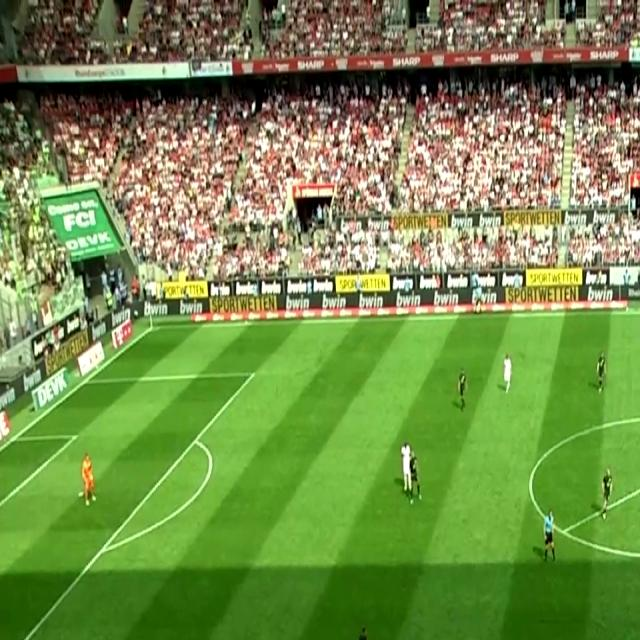goalkeeper: (77, 443, 101, 514)
referee: (537, 496, 560, 576)
soccer-player: (445, 365, 472, 417), (598, 460, 617, 522), (589, 342, 609, 397), (498, 341, 515, 402), (340, 612, 371, 640), (410, 451, 424, 504), (400, 438, 412, 495)
